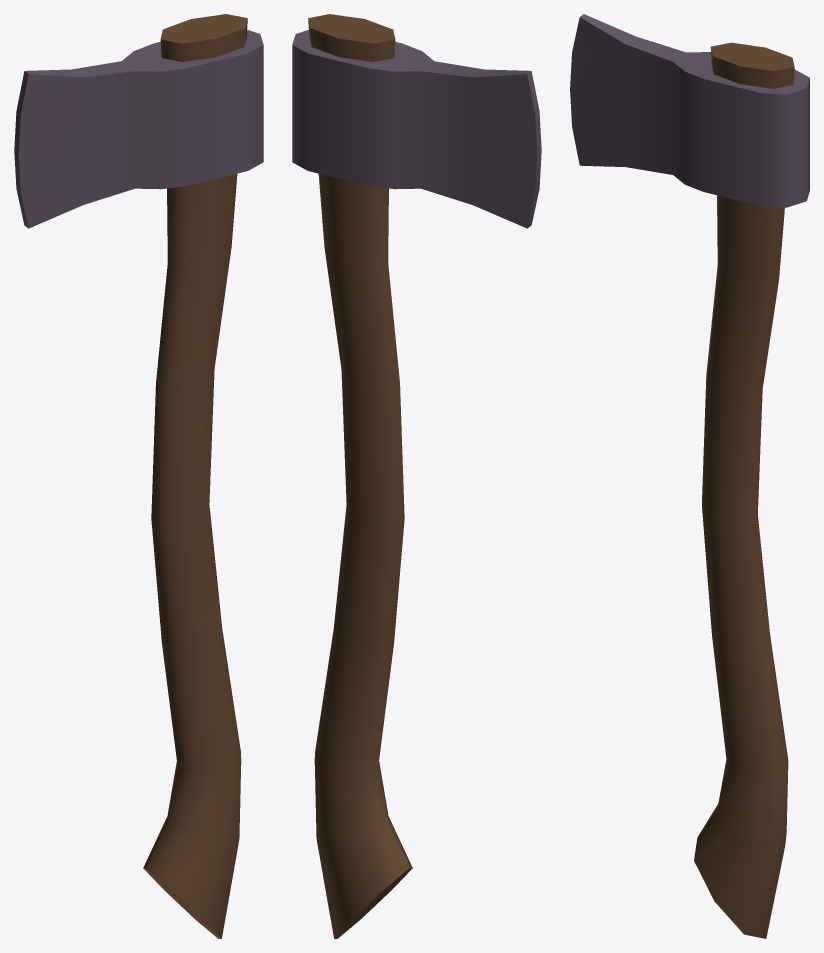
The model's file is Axe.fbx.
3 renders of one model, left to right at view 1: azimuth 30°, elevation 25°; view 2: azimuth 150°, elevation 25°; view 3: azimuth 330°, elevation 25°, orthographic. The views are drawn at different scales.
Visible parts, largest first — view 1: Cube, Cube.001; view 2: Cube, Cube.001; view 3: Cube, Cube.001.
Boxes of the visible parts, x1,y1,x2,y2 form: Cube: (143, 14, 247, 938); Cube.001: (14, 29, 263, 228); Cube: (308, 14, 412, 938); Cube.001: (292, 29, 541, 228); Cube: (694, 42, 794, 938); Cube.001: (570, 14, 809, 207).
Size of the model in its own units: 28.19 by 101 by 7.34.
